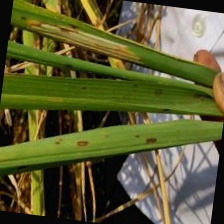Bacterial_Leaf_Blight: (74, 139, 97, 149), (143, 135, 163, 145), (52, 136, 65, 145), (63, 62, 77, 70), (155, 87, 165, 97), (17, 13, 28, 21), (80, 83, 89, 90)
